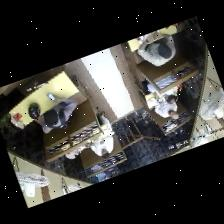person: (41, 95, 76, 132), (137, 32, 174, 65), (91, 132, 113, 158), (154, 101, 177, 118), (140, 78, 159, 97)
